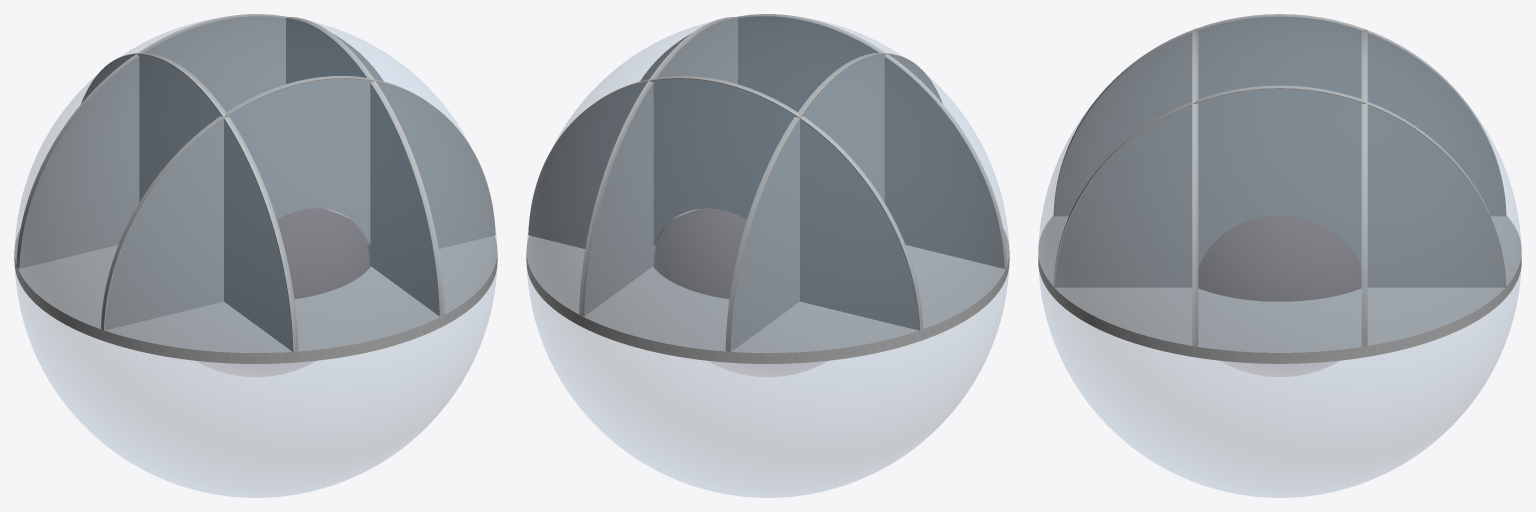
3 renders of one model, left to right at view 1: azimuth 30°, elevation 25°; view 2: azimuth 150°, elevation 25°; view 3: azimuth 270°, elevation 25°, orthographic.
Parts seen in each view (by area): view 1: Invisible Tech Sphere, Walls 2, Floor, Visibile Tech Sphere, Floor office; view 2: Invisible Tech Sphere, Walls 2, Floor, Visibile Tech Sphere, Floor office; view 3: Invisible Tech Sphere, Walls 2, Floor, Visibile Tech Sphere, Floor office.
Boxes of the visible parts, x1,y1,x2,y2 form: Invisible Tech Sphere: (15, 15, 496, 497); Walls 2: (16, 14, 495, 352); Floor: (14, 208, 497, 363); Visibile Tech Sphere: (197, 209, 370, 376); Floor office: (277, 208, 370, 298); Invisible Tech Sphere: (527, 15, 1008, 497); Walls 2: (528, 14, 1007, 352); Floor: (526, 208, 1009, 363); Visibile Tech Sphere: (653, 209, 826, 376); Floor office: (653, 208, 746, 298); Invisible Tech Sphere: (1038, 15, 1521, 497); Walls 2: (1053, 14, 1506, 346); Floor: (1038, 215, 1521, 363); Visibile Tech Sphere: (1199, 215, 1360, 376); Floor office: (1198, 215, 1361, 301).
Size of the model in its own units: 12.19 by 12.19 by 12.19.
